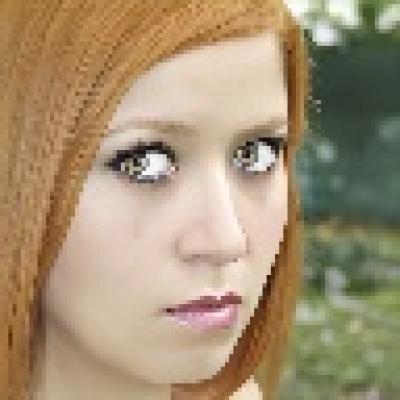sad: (65, 28, 288, 380)
